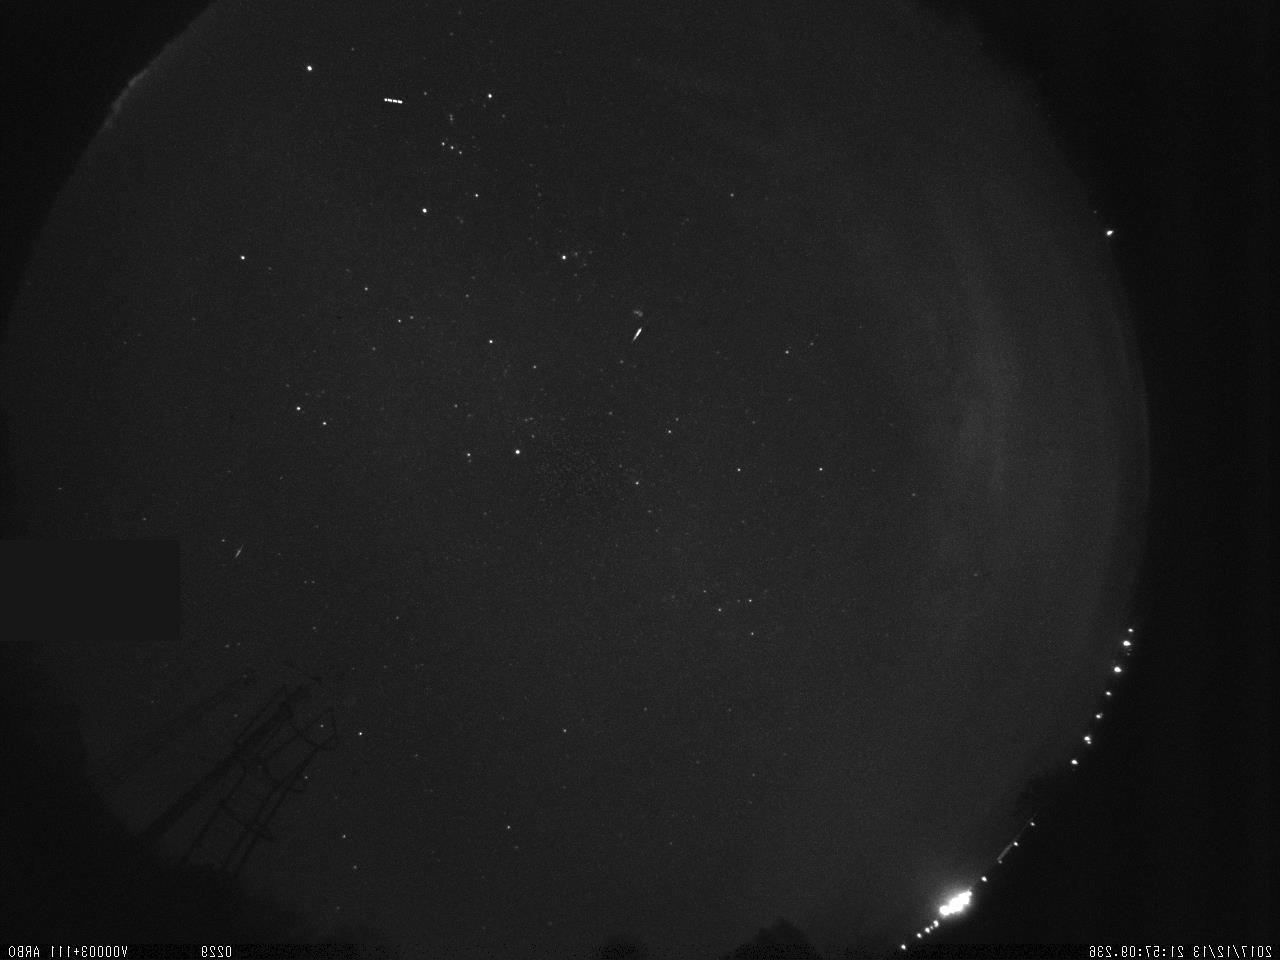meteor: (621, 320, 655, 347)
